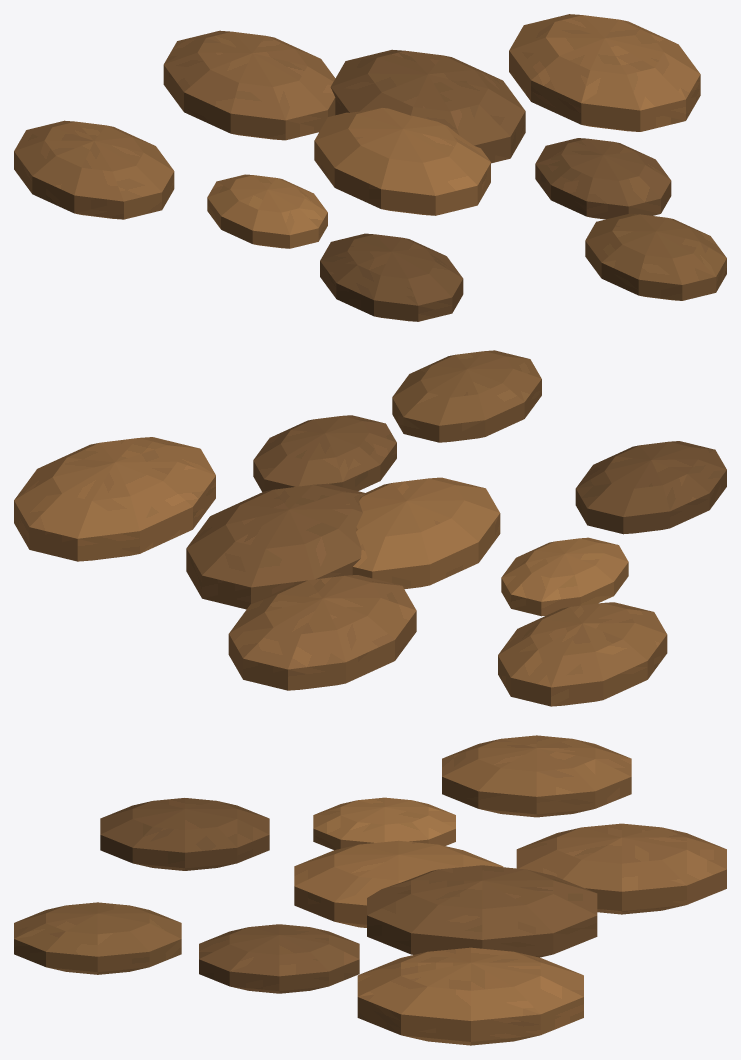
File: seed_tomato.glb
3 renders of one model, top to bottom at view 1: azimuth 30°, elevation 25°; view 2: azimuth 150°, elevation 25°; view 3: azimuth 270°, elevation 25°, orthographic. The views are drawn at different scales.
Visible parts, largest first — view 1: block_grain 6, block_grain 4, block_grain 0, block_grain 1, block_grain 7, block_grain 5, block_grain 8, block_grain 3, block_grain 2; view 2: block_grain 6, block_grain 4, block_grain 1, block_grain 7, block_grain 0, block_grain 5, block_grain 8, block_grain 3, block_grain 2; view 3: block_grain 6, block_grain 1, block_grain 4, block_grain 7, block_grain 5, block_grain 8, block_grain 3, block_grain 0, block_grain 2.
Boxes of the visible parts, left/top/right/bottom form: block_grain 6: left=509, top=14, right=700, bottom=131; block_grain 4: left=163, top=30, right=335, bottom=140; block_grain 0: left=314, top=107, right=490, bottom=215; block_grain 1: left=330, top=49, right=525, bottom=163; block_grain 7: left=14, top=120, right=174, bottom=219; block_grain 5: left=320, top=233, right=463, bottom=321; block_grain 8: left=585, top=213, right=726, bottom=300; block_grain 3: left=535, top=138, right=671, bottom=219; block_grain 2: left=207, top=174, right=327, bottom=248; block_grain 6: left=14, top=437, right=215, bottom=561; block_grain 4: left=228, top=575, right=416, bottom=690; block_grain 1: left=186, top=483, right=365, bottom=609; block_grain 7: left=498, top=602, right=667, bottom=706; block_grain 0: left=352, top=477, right=500, bottom=589; block_grain 5: left=575, top=441, right=726, bottom=534; block_grain 8: left=392, top=350, right=541, bottom=442; block_grain 3: left=253, top=415, right=396, bottom=491; block_grain 2: left=501, top=537, right=628, bottom=616; block_grain 6: left=357, top=947, right=583, bottom=1045; block_grain 1: left=367, top=865, right=597, bottom=957; block_grain 4: left=516, top=823, right=726, bottom=914; block_grain 7: left=442, top=735, right=631, bottom=817; block_grain 5: left=100, top=798, right=269, bottom=870; block_grain 8: left=14, top=902, right=181, bottom=974; block_grain 3: left=199, top=924, right=359, bottom=993; block_grain 0: left=294, top=840, right=503, bottom=927; block_grain 2: left=313, top=797, right=455, bottom=850.
Bounding box in the file's own units: 0.0212 × 0.00235 × 0.022.
1 material, 1 textured.
